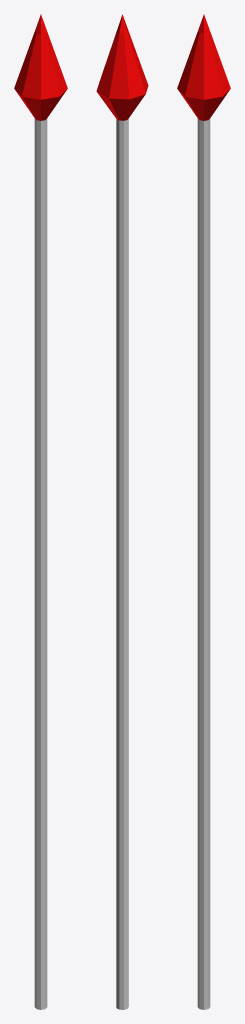
The model's file is Lanza.glb.
3 views of the same model, side by side, from view 1: azimuth 90°, elevation 25°; view 2: azimuth 150°, elevation 25°; view 3: azimuth 270°, elevation 25° (orthographic).
Visible parts, largest first — view 1: Lanza; view 2: Lanza; view 3: Lanza.
Boxes of the visible parts, x1,y1,x2,y2 form: Lanza: (14,14,67,1009); Lanza: (96,14,148,1009); Lanza: (177,14,230,1009).
Size of the model in its own units: 0.1967 by 4 by 0.1967.
